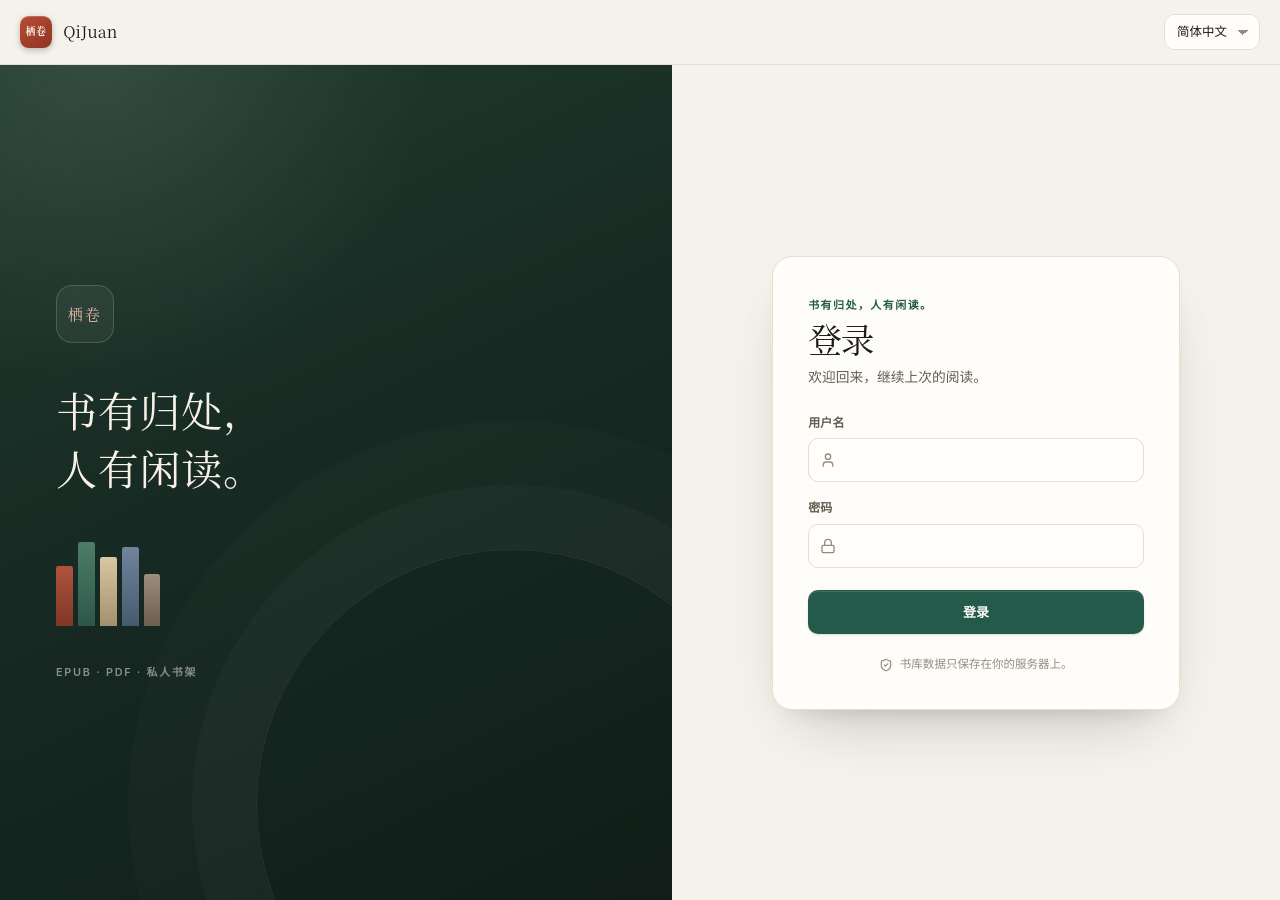
Test: first-run gate › shows sign-in once setup is complete and keeps an empty session out
This screenshot has width=1280, height=900.
Expected: the heading "登录" is shown, [808, 314, 873, 363]
Type "ada" into the field labelled "用户名". click: (976, 460)
box: [808, 438, 1144, 482]
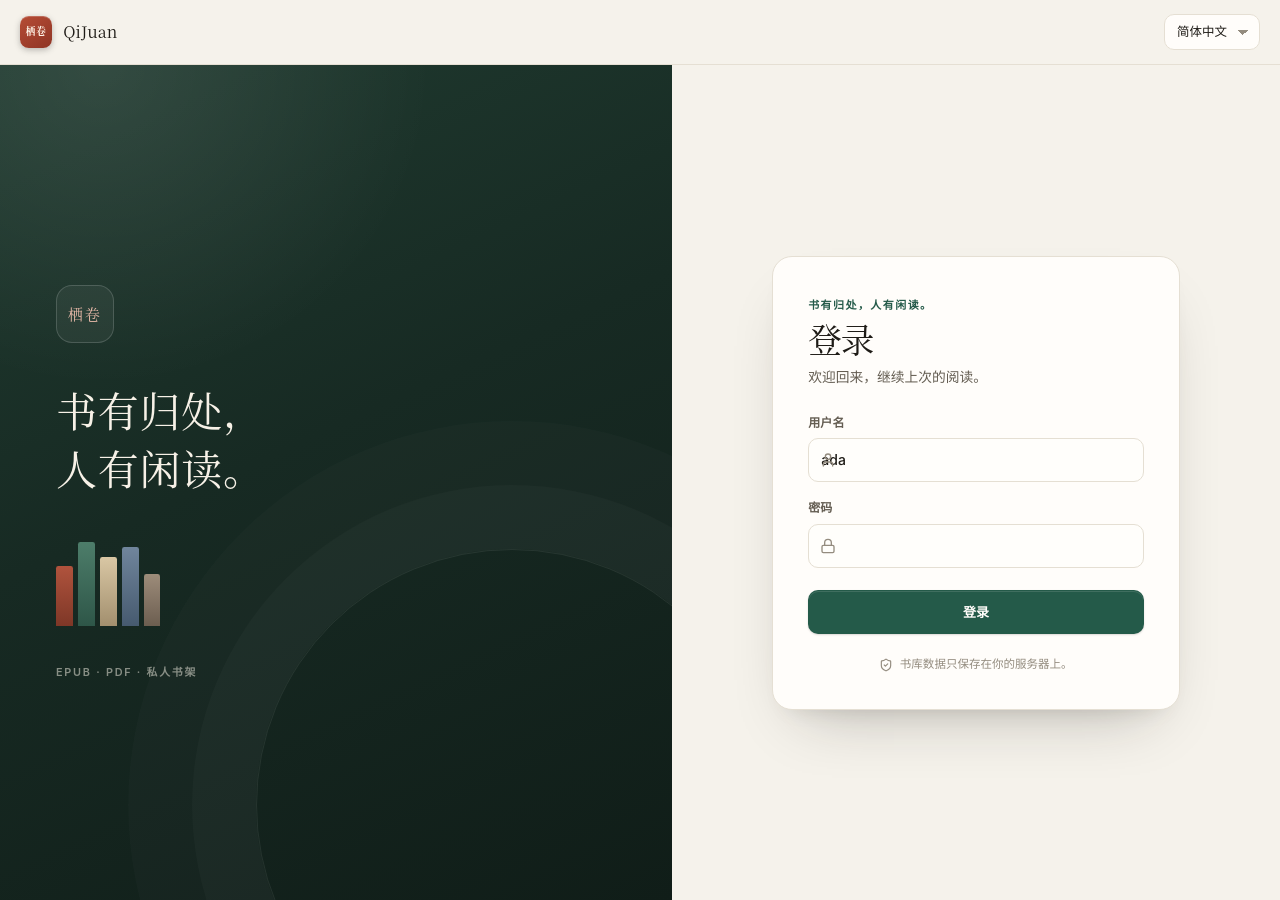
Type "not-the-password" into the password field labelled "密码". click: (976, 546)
box: [808, 524, 1144, 568]
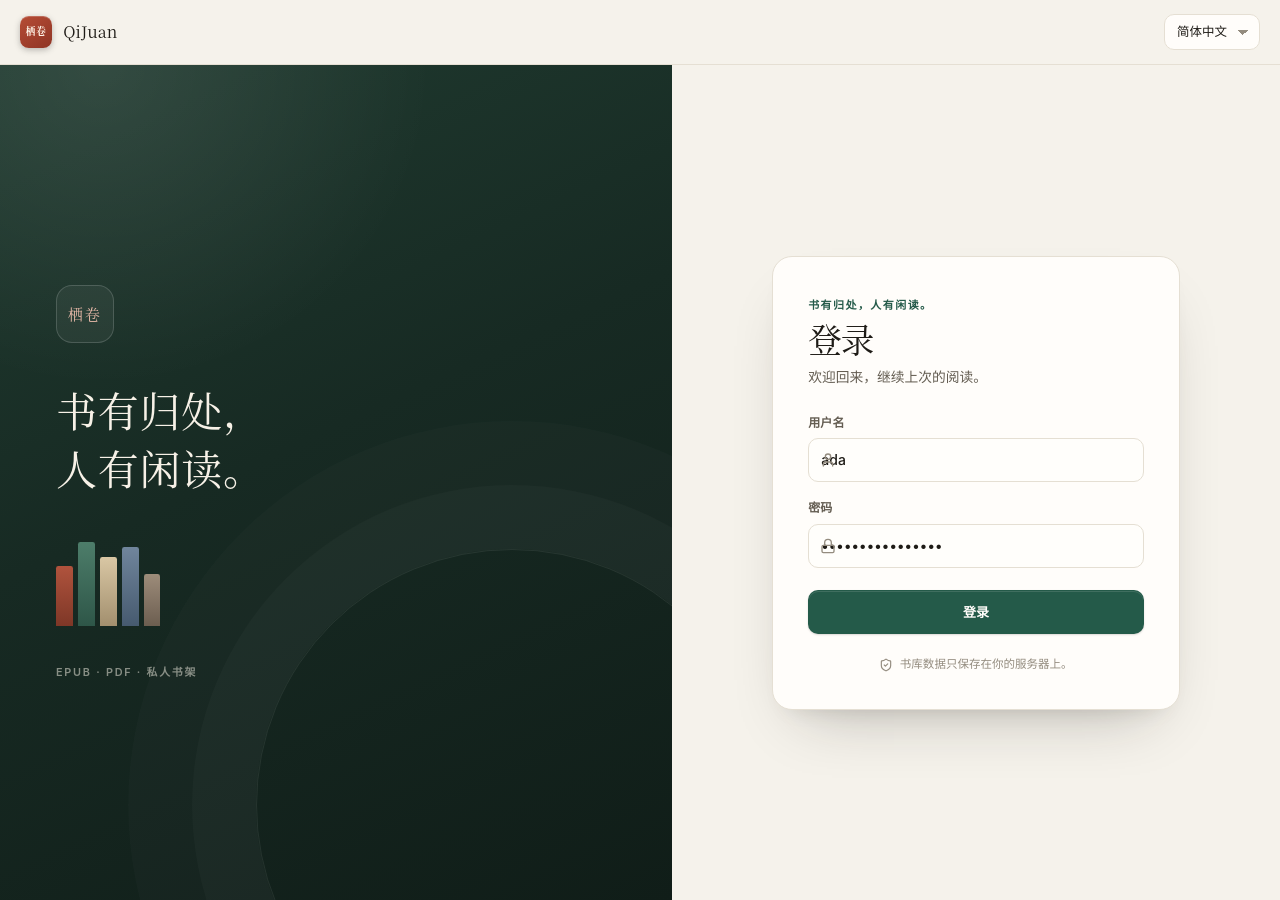
Click the button "登录". click: (976, 612)
box: [808, 590, 1144, 634]
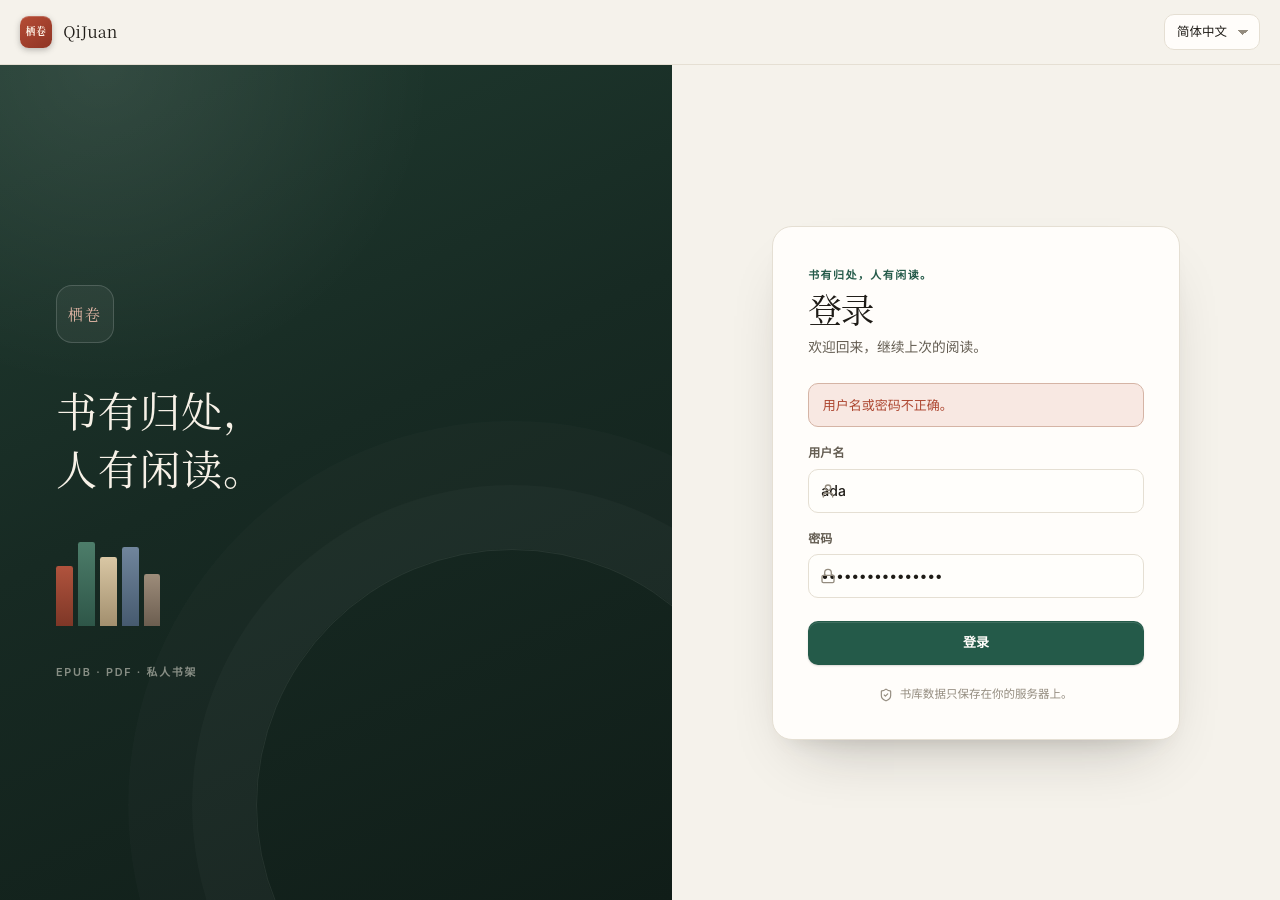
Result: the message reads "用户名或密码不正确。" at [823, 397, 953, 413]
